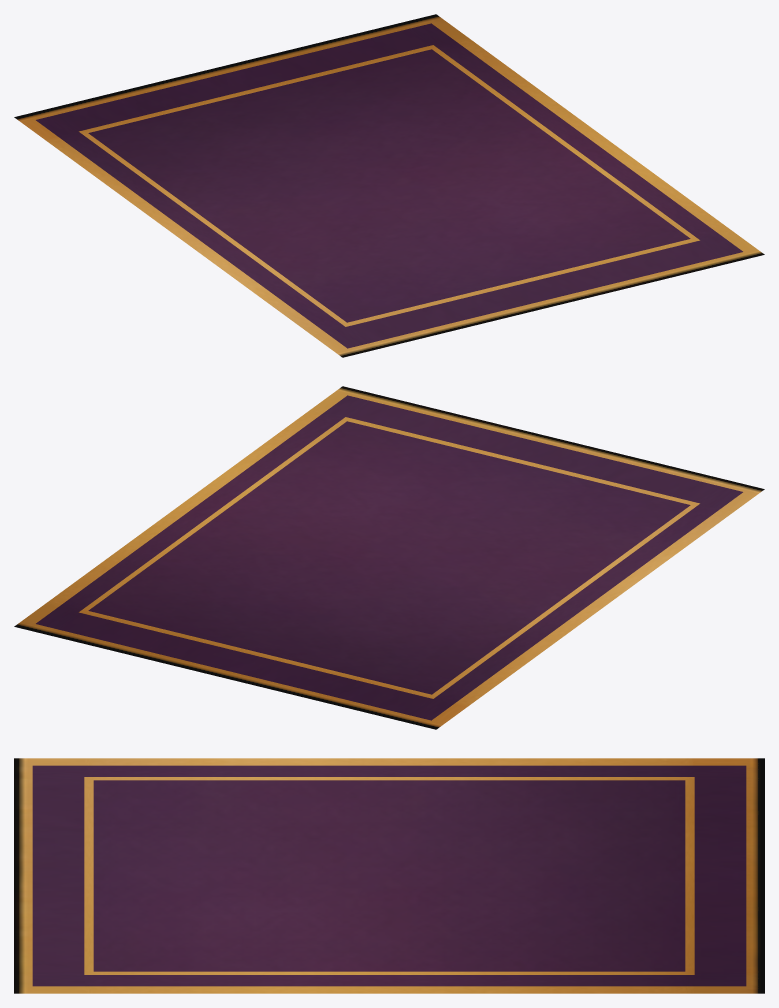
Rendered from SM_flated_pillar_rug_00.fbx.
3 views of the same model, one above another, from view 1: azimuth 30°, elevation 25°; view 2: azimuth 150°, elevation 25°; view 3: azimuth 270°, elevation 25° (orthographic). The views are drawn at different scales.
Parts seen in each view (by area): view 1: SM_flated_pillar_rug; view 2: SM_flated_pillar_rug; view 3: SM_flated_pillar_rug.
Part boxes in pixels (left/top/right/bottom): SM_flated_pillar_rug: left=14, top=14, right=764, bottom=357; SM_flated_pillar_rug: left=14, top=386, right=764, bottom=729; SM_flated_pillar_rug: left=14, top=758, right=764, bottom=993.
Size of the model in its own units: 2.96 by 0 by 3.99.
